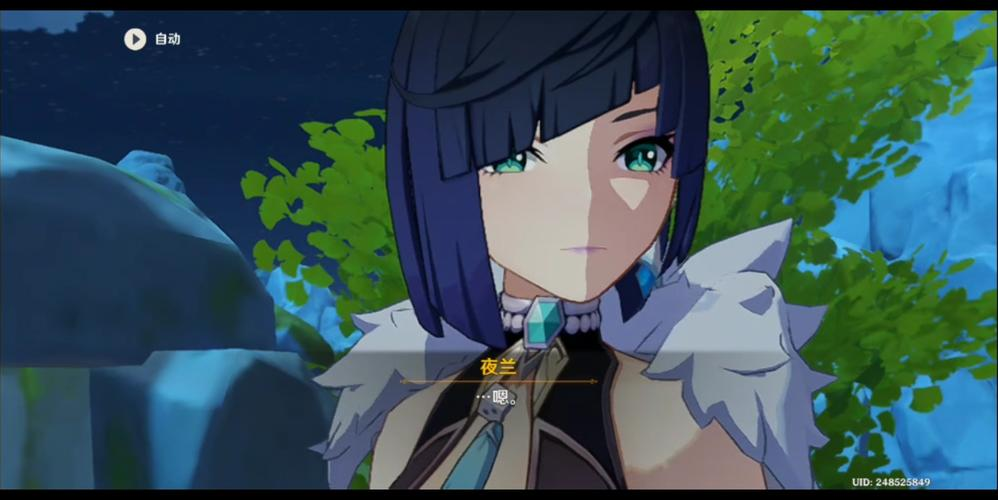夜兰: (365, 5, 788, 490)
